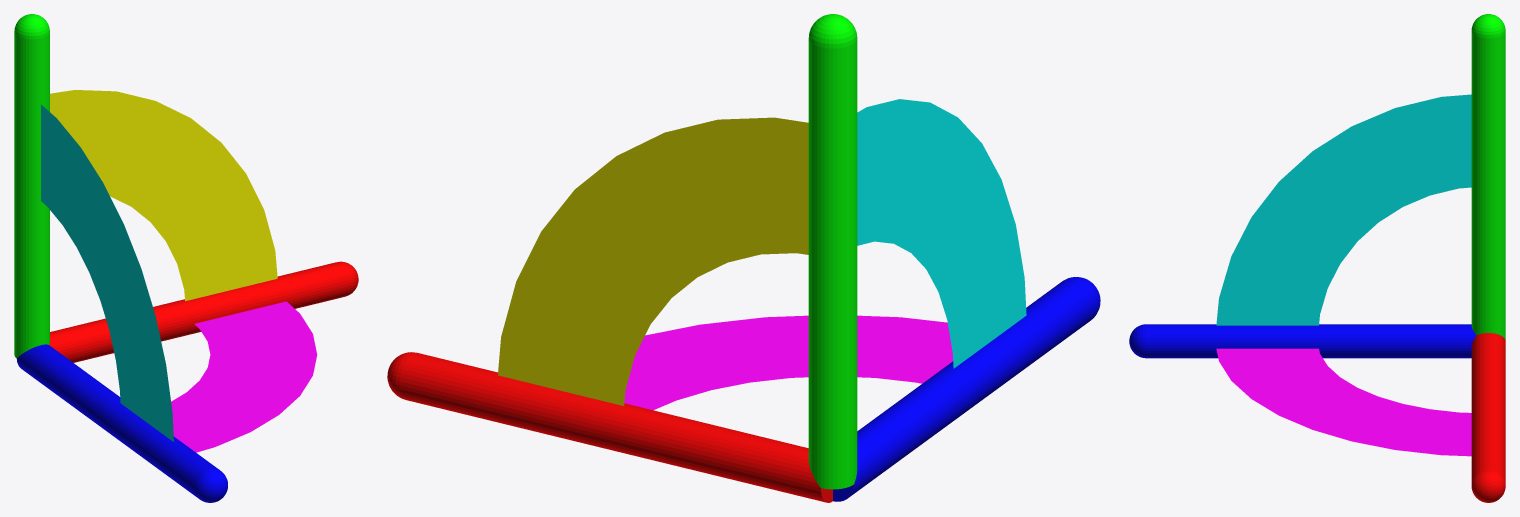
Rendered from rotation_gnomon.obj.
3 views of the same model, side by side, from view 1: azimuth 30°, elevation 25°; view 2: azimuth 150°, elevation 25°; view 3: azimuth 270°, elevation 25° (orthographic). The views are drawn at different scales.
Parts seen in each view (by area): view 1: xy_plane, yz_plane, zx_plane, y_axis, z_axis, x_axis; view 2: xy_plane, yz_plane, y_axis, x_axis, zx_plane, z_axis; view 3: yz_plane, zx_plane, y_axis, z_axis, x_axis.
Boxes of the visible parts, <box> form: xy_plane: <box>50,90,277,301</box>; yz_plane: <box>41,104,173,441</box>; zx_plane: <box>171,301,317,452</box>; y_axis: <box>14,14,49,358</box>; z_axis: <box>16,344,227,502</box>; x_axis: <box>49,261,358,362</box>; xy_plane: <box>498,117,808,405</box>; yz_plane: <box>857,99,1026,368</box>; y_axis: <box>808,14,857,489</box>; x_axis: <box>387,352,832,502</box>; zx_plane: <box>624,315,953,410</box>; z_axis: <box>833,277,1100,501</box>; yz_plane: <box>1216,94,1471,325</box>; zx_plane: <box>1216,348,1471,456</box>; y_axis: <box>1471,14,1505,339</box>; z_axis: <box>1129,324,1476,358</box>; x_axis: <box>1471,333,1505,502</box>.
Size of the model in its own units: 1.1 by 1.1 by 1.1.
